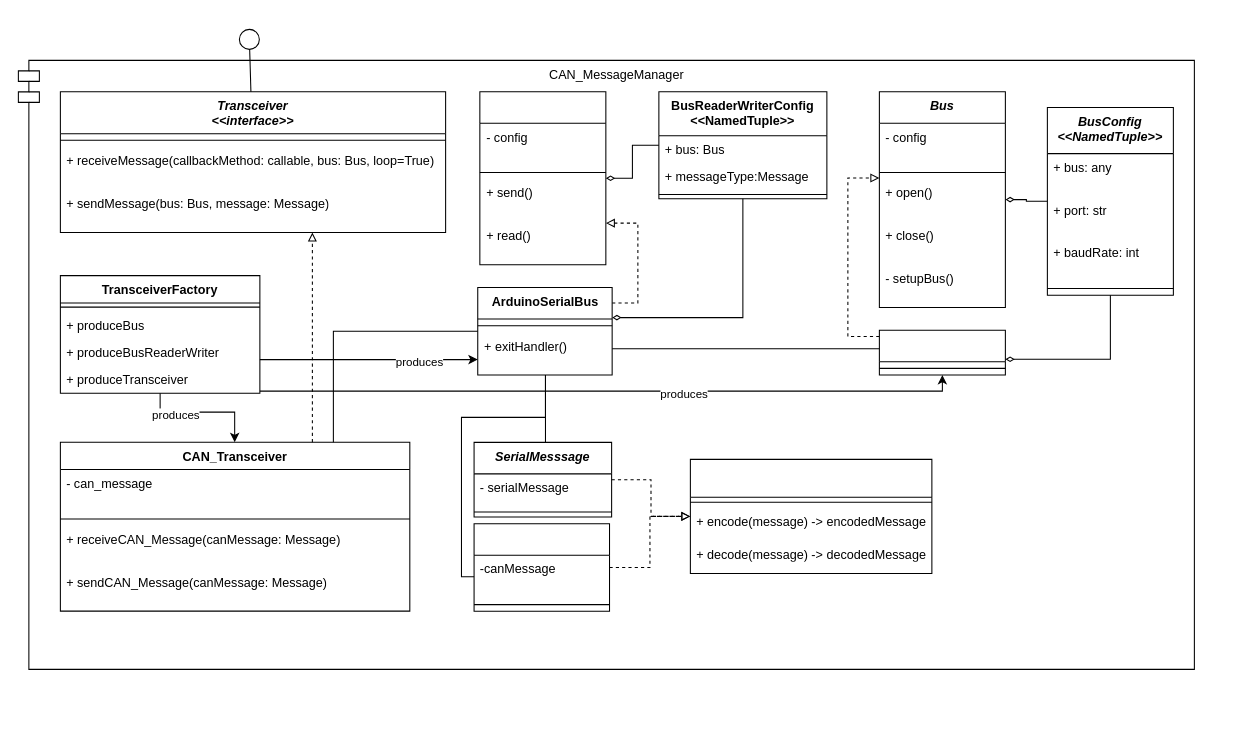
Image size: 1255x744. Some labels were removed from this diagram. Here are the shapes that lost their labels. From the top down, the box of each, then its label:
(479, 91, 606, 265): BusReaderWriter
(878, 329, 1005, 375): SerialBusArduino
(689, 458, 932, 573): Messsage <<Protocol>>
(473, 523, 610, 611): CAN_Messsage
